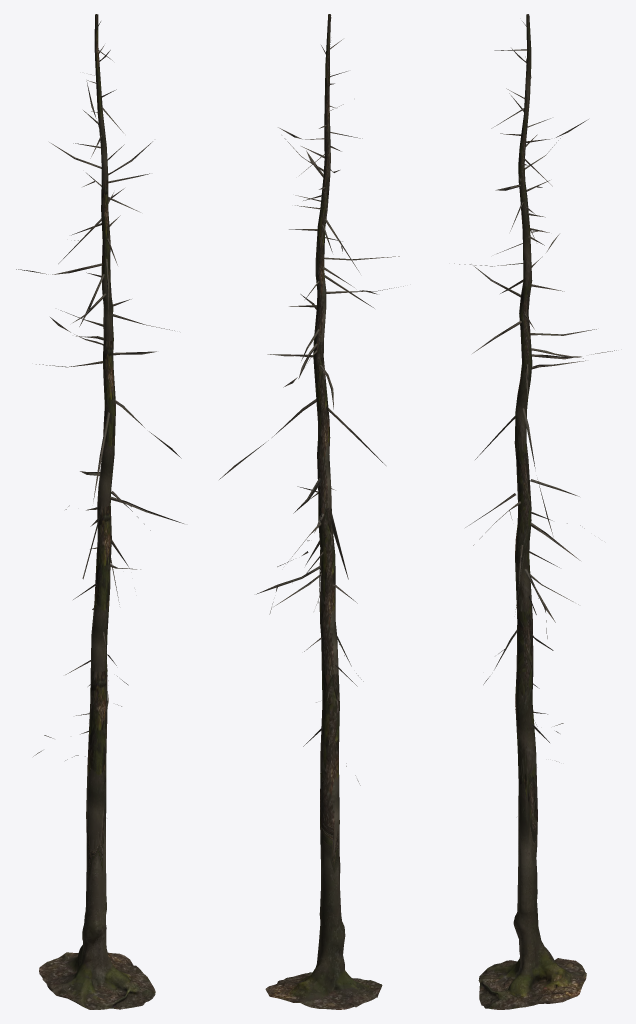
Rendered from fir_b.glb.
3 views of the same model, side by side, from view 1: azimuth 30°, elevation 25°; view 2: azimuth 150°, elevation 25°; view 3: azimuth 270°, elevation 25° (orthographic).
Parts seen in each view (by area): view 1: lod0; view 2: lod0; view 3: lod0.
Boxes of the visible parts, <box> form: lod0: <box>16,14,183,1009</box>; lod0: <box>219,14,403,1009</box>; lod0: <box>454,14,616,1009</box>.
Size of what is drawn, in the model's own units: 2.2 by 12.53 by 2.08.
Materials: 2 (2 with a texture image).
